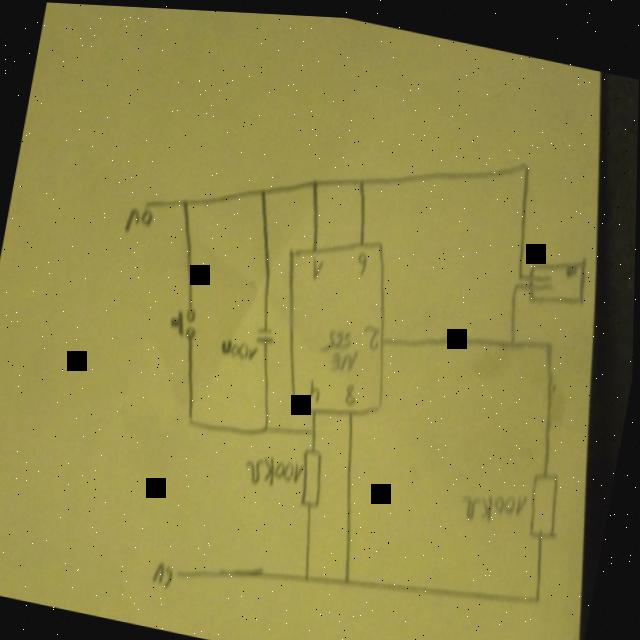capacitor: (256, 324, 277, 344)
junction: (506, 332, 521, 349), (186, 412, 200, 430), (519, 154, 533, 170), (544, 334, 558, 348), (262, 420, 274, 435), (309, 175, 322, 188), (357, 172, 369, 186), (181, 194, 193, 208), (303, 569, 315, 583), (258, 184, 270, 197), (344, 573, 356, 585), (310, 424, 321, 436), (535, 589, 545, 600), (517, 266, 526, 278), (515, 278, 522, 287)
resistor: (524, 461, 569, 539), (295, 443, 331, 509)
switch: (523, 241, 595, 312), (169, 305, 203, 342)
terminal: (144, 197, 156, 209), (178, 567, 188, 580)
text: (462, 478, 532, 527), (244, 449, 306, 493), (318, 324, 365, 374), (220, 336, 261, 363), (124, 204, 155, 237), (155, 559, 178, 589), (363, 320, 385, 349), (309, 252, 327, 281), (344, 379, 363, 406), (308, 375, 324, 404), (355, 247, 371, 275)
